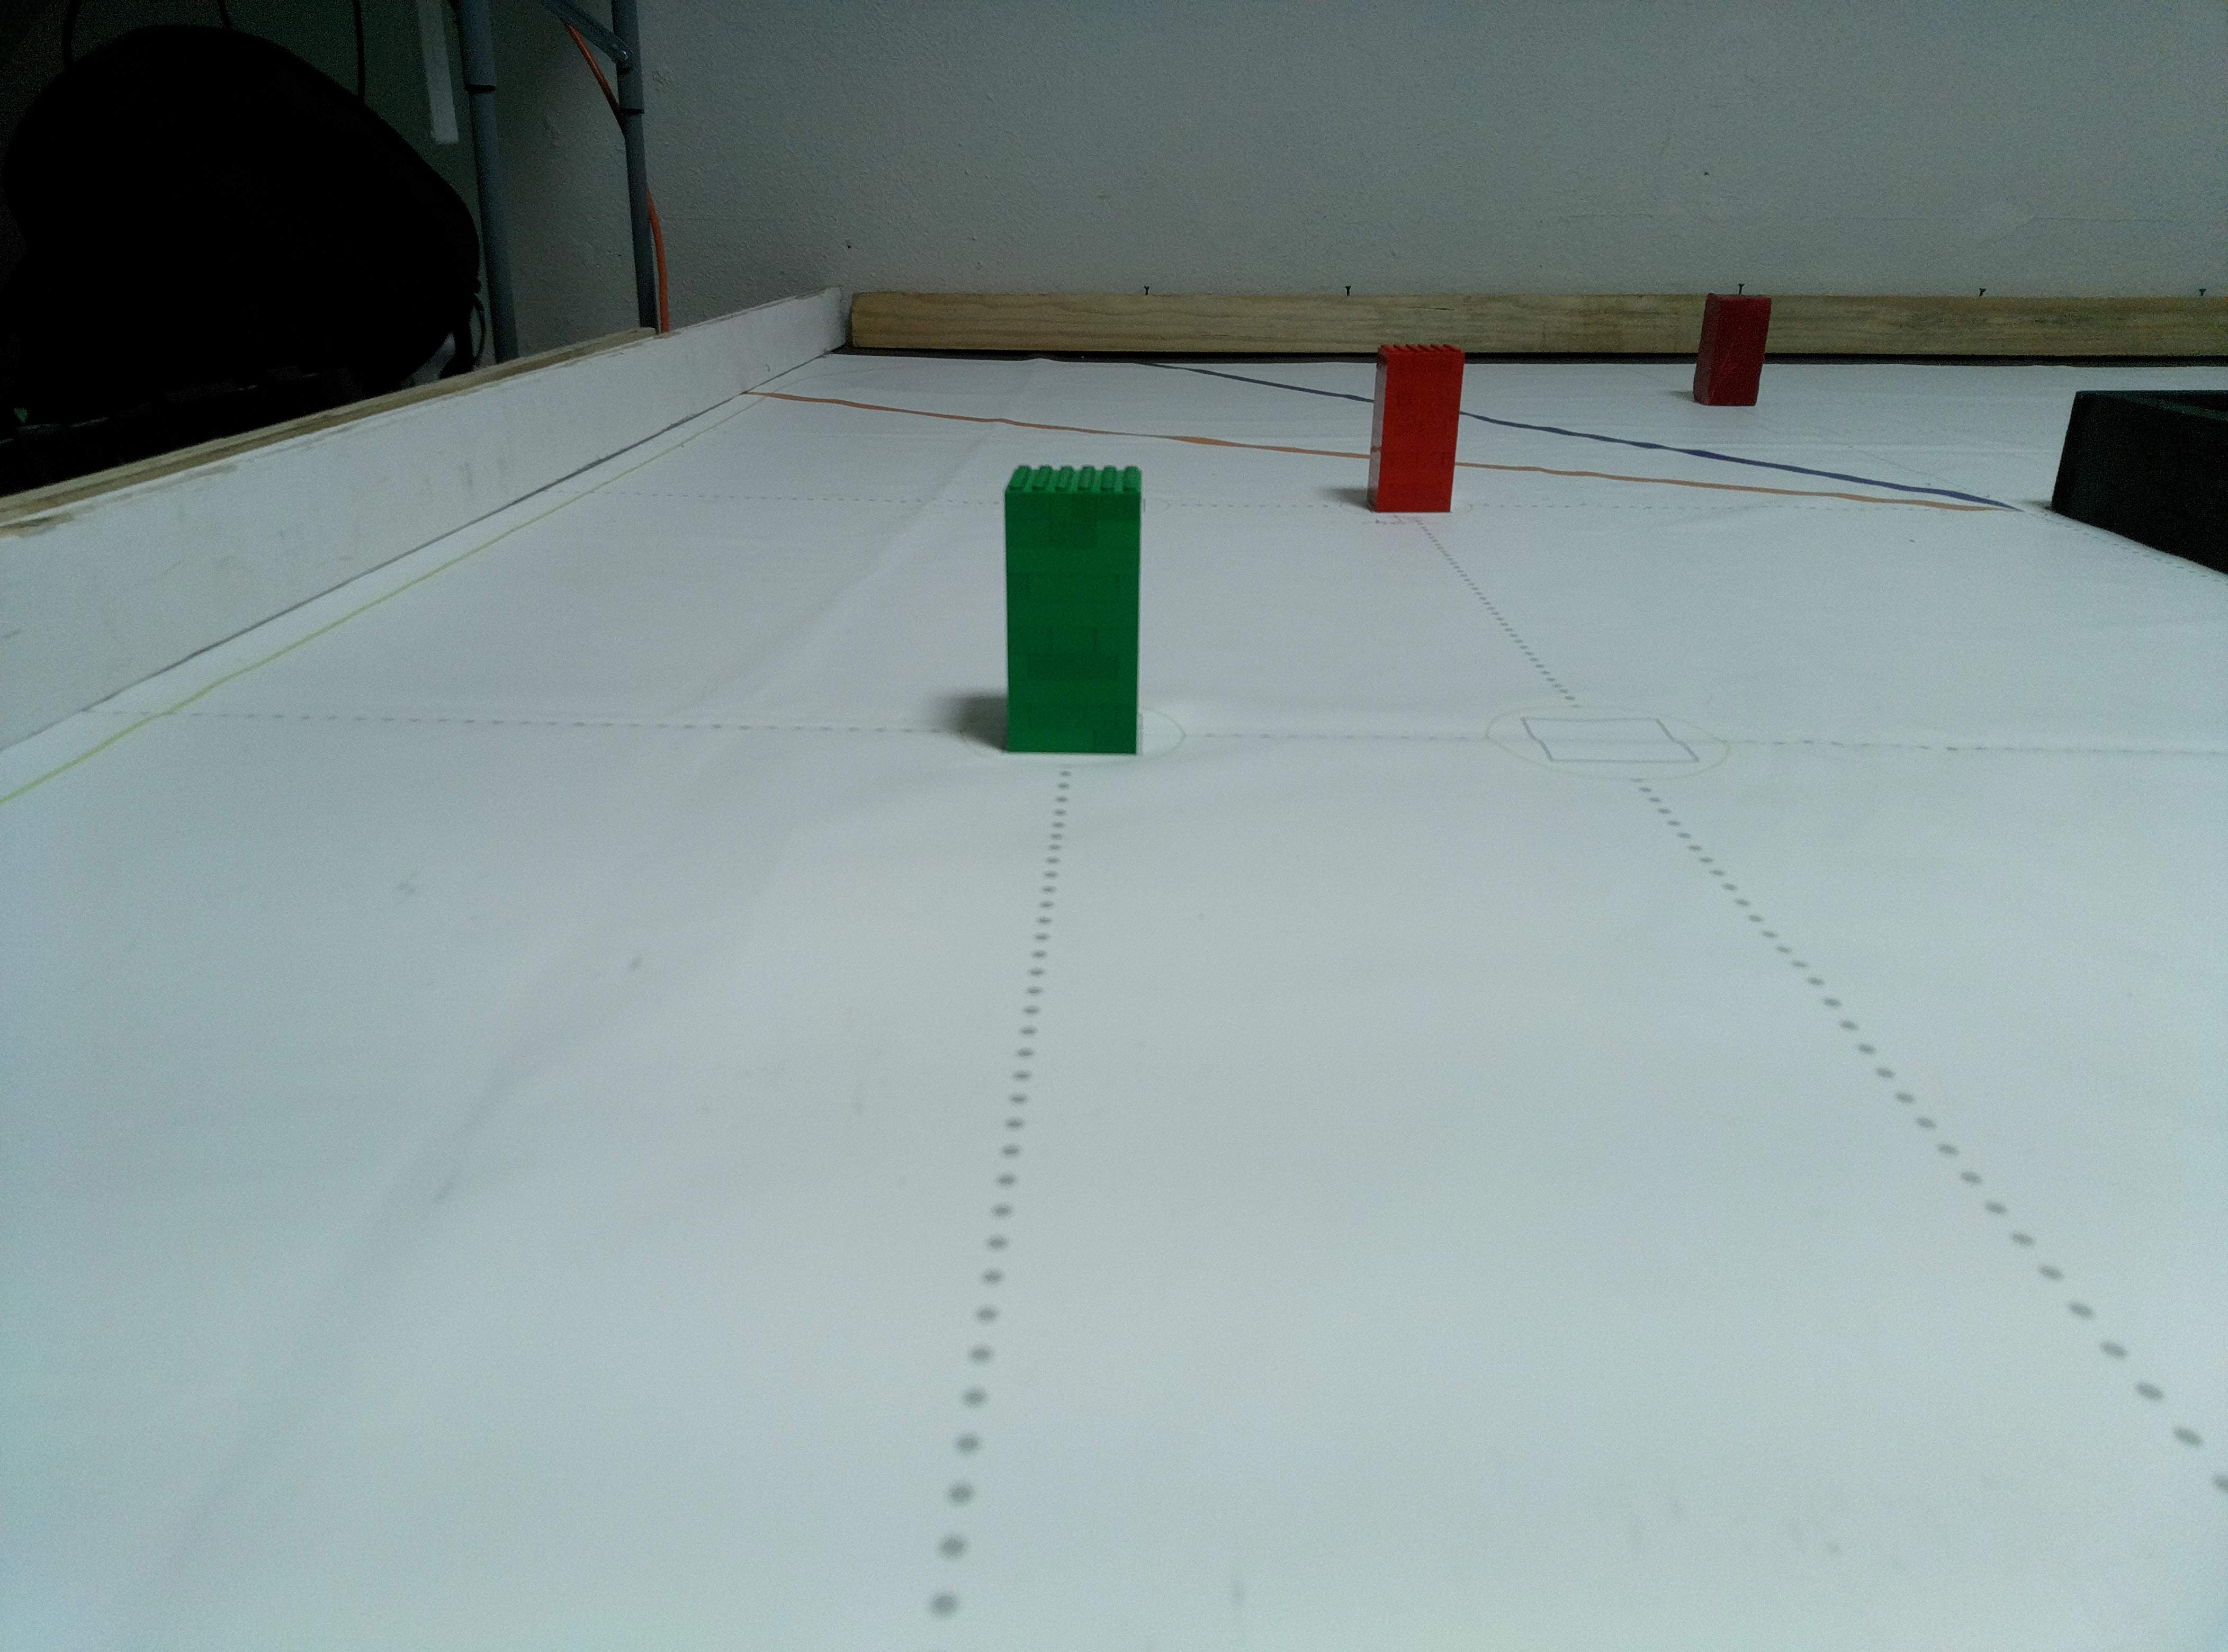greenbox: (1001, 463, 1140, 757)
redbox: (1364, 342, 1465, 515), (1690, 290, 1772, 408)
